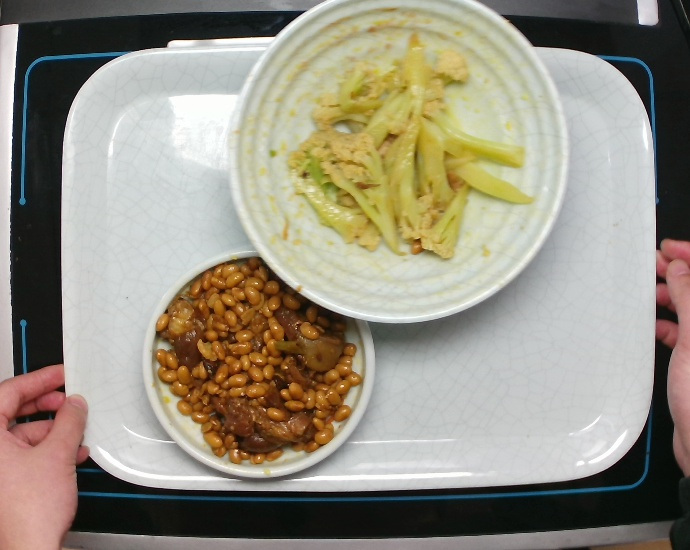JYsf-Da_Tang_Wan: (227, 1, 563, 323)
JYsf-Xiao_Yuan_Pan: (141, 251, 372, 480)
